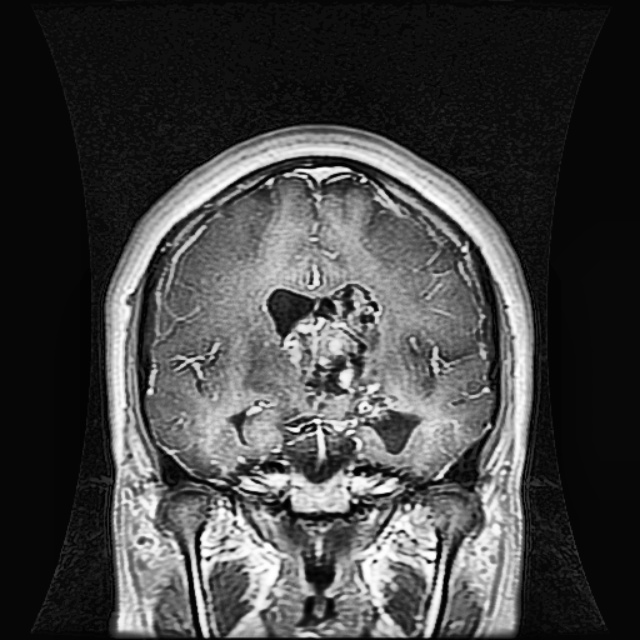Meningioma: (265, 280, 428, 454)
